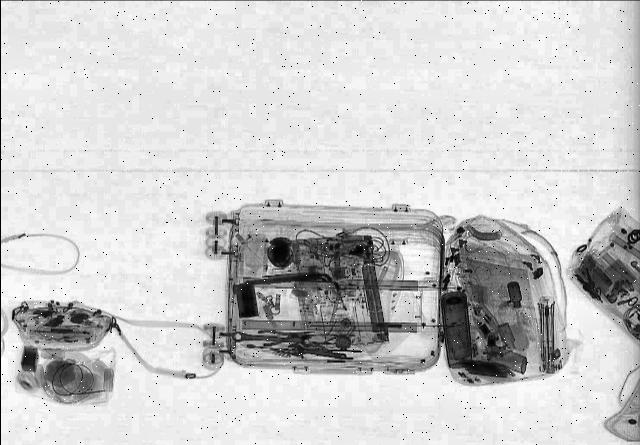Pliers: (254, 321, 316, 347)
Wrench: (230, 326, 316, 348), (288, 342, 348, 362)
